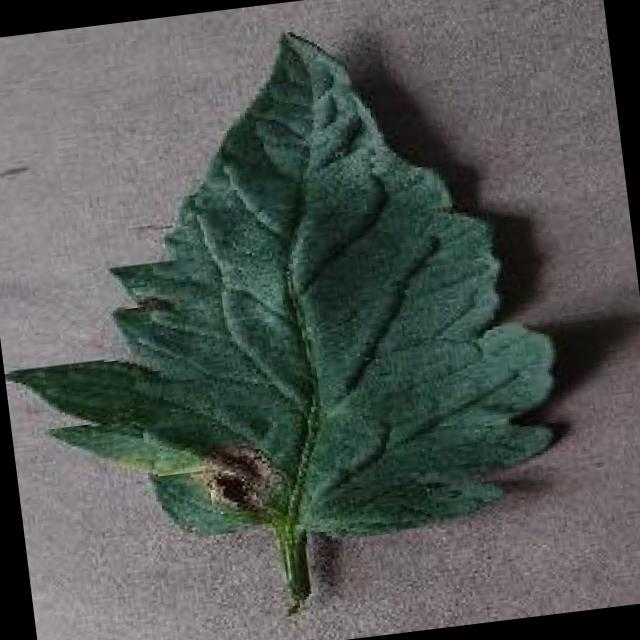Tomato_Early_Blight: (53, 377, 325, 581)
